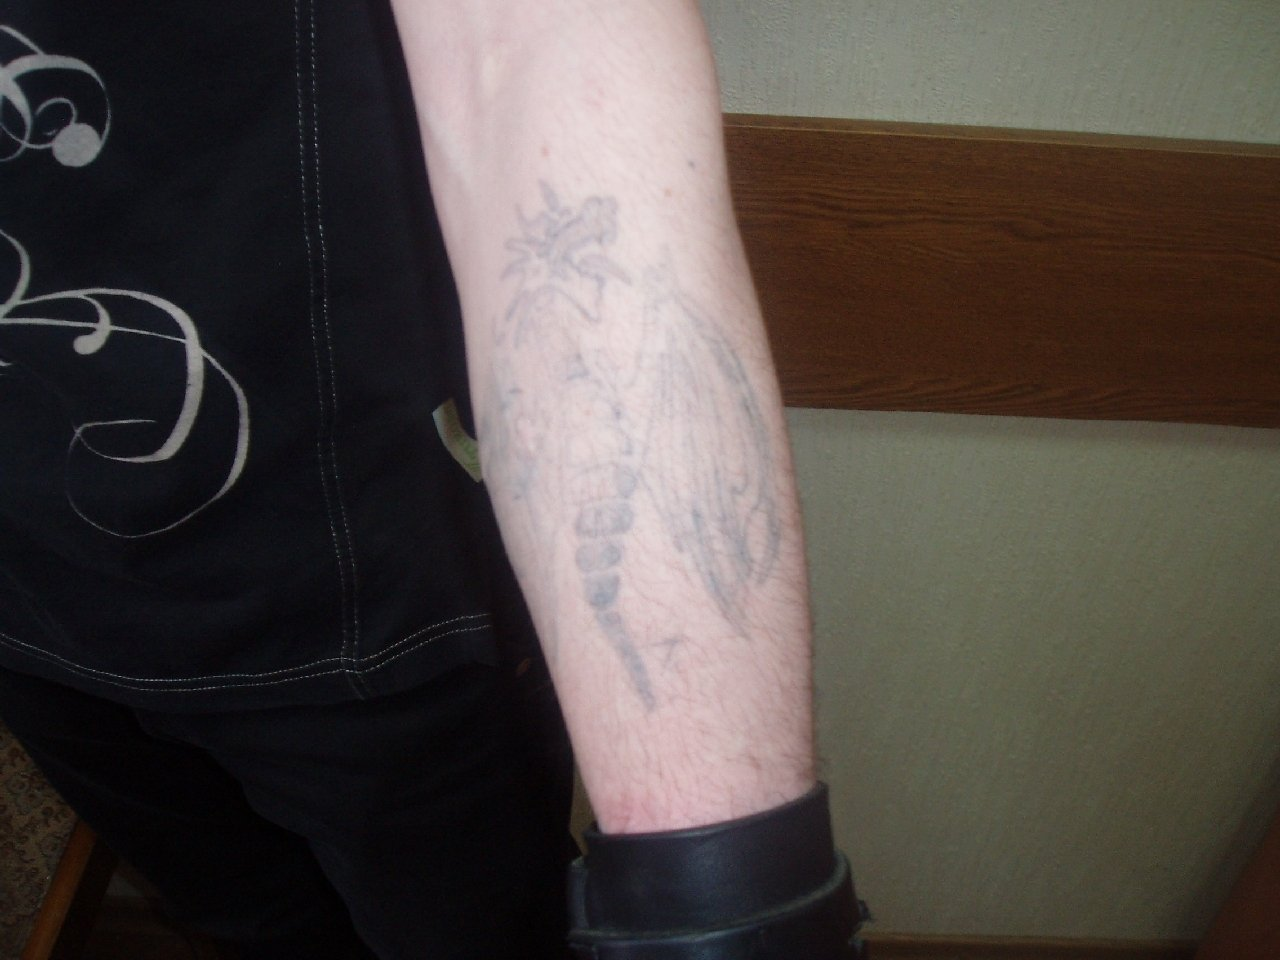tatu6_drakon: (411, 149, 912, 735)
